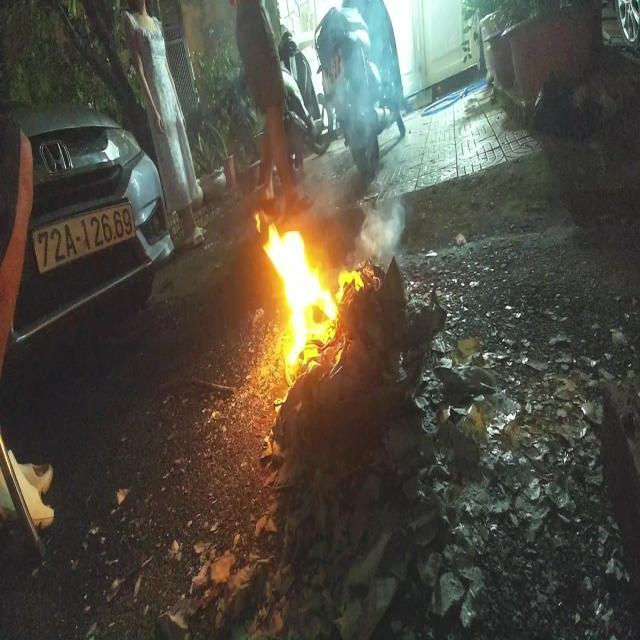Fire: (254, 214, 364, 378)
Smoke: (352, 196, 408, 276)
